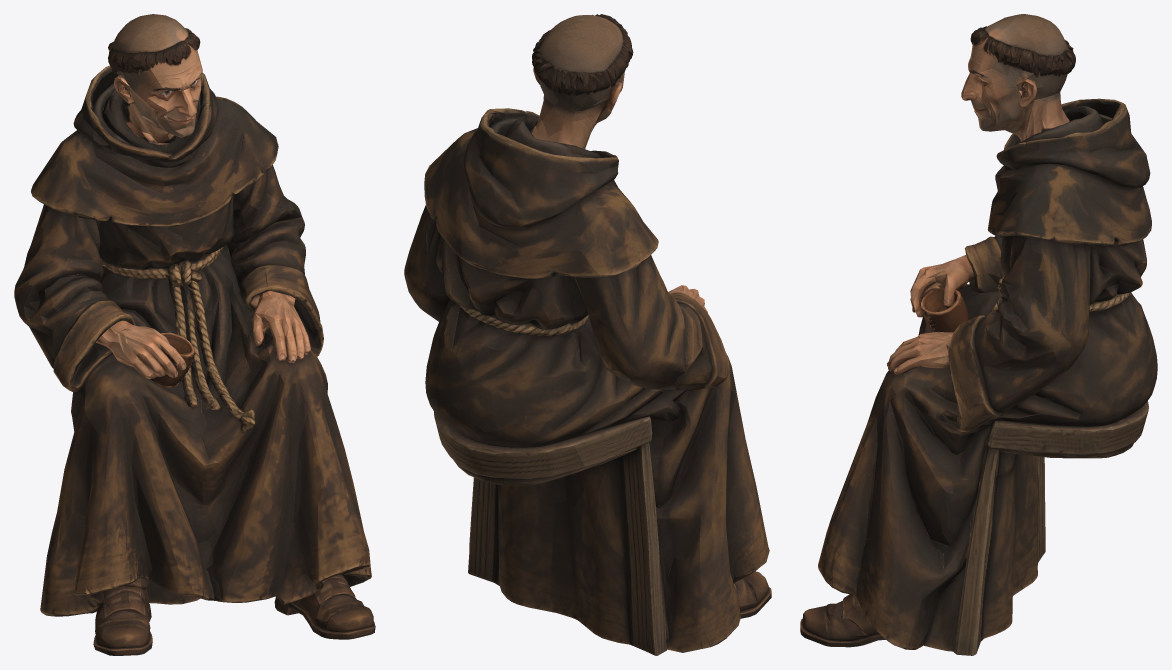
File: moine-brut.glb
The picture shows the model from 3 angles, left to right: view 1: azimuth 30°, elevation 25°; view 2: azimuth 150°, elevation 25°; view 3: azimuth 270°, elevation 25°; orthographic projection. The views are drawn at different scales.
Parts seen in each view (by area): view 1: Mesh_0; view 2: Mesh_0; view 3: Mesh_0.
Part boxes in pixels (x1,y1,x2,y2): Mesh_0: (14, 14, 375, 655); Mesh_0: (404, 14, 771, 655); Mesh_0: (800, 14, 1157, 655).
Bounding box in the file's own units: 0.9693 × 1.9 × 1.08.
1 material, 1 textured.
